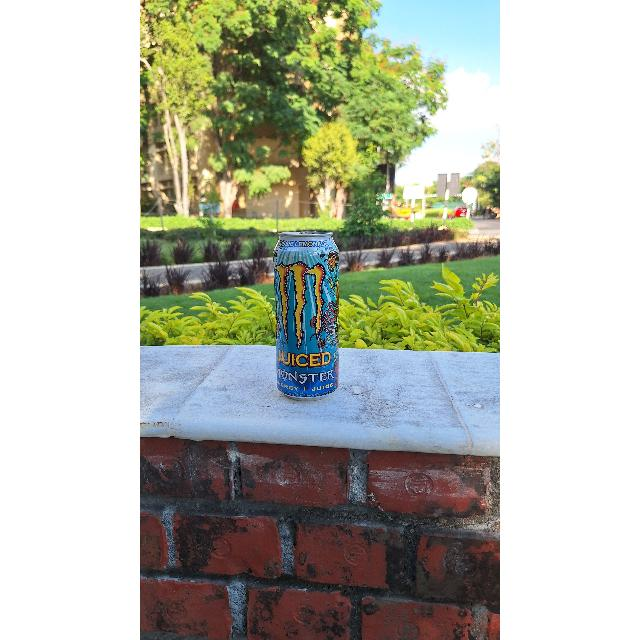Monster Aussie Lemonade: (278, 231, 342, 399)
